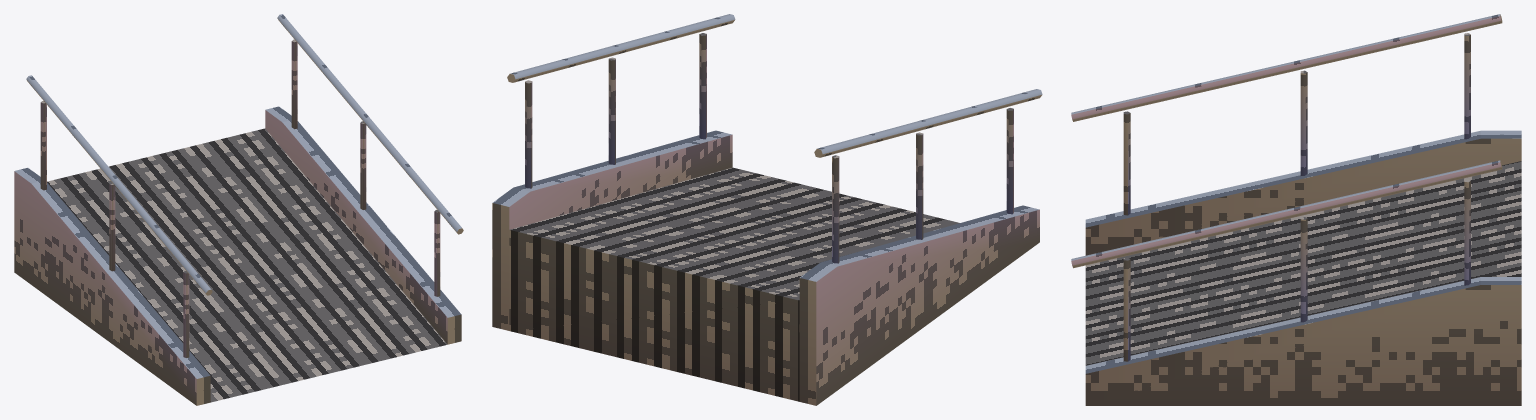
The model's file is stn.stairs__ramp.glb.
The picture shows the model from 3 angles, left to right: view 1: azimuth 30°, elevation 25°; view 2: azimuth 150°, elevation 25°; view 3: azimuth 270°, elevation 25°; orthographic projection. The views are drawn at different scales.
Parts seen in each view (by area): view 1: kit_flight, kit_stringers, kit_rails, kit_posts; view 2: kit_flight, kit_stringers, kit_posts, kit_rails; view 3: kit_stringers, kit_flight, kit_rails, kit_posts.
Part boxes in pixels (x1,y1,x2,y2): kit_flight: [47, 128, 447, 402]; kit_stringers: [14, 106, 461, 405]; kit_rails: [26, 14, 463, 295]; kit_posts: [40, 39, 440, 357]; kit_flight: [509, 167, 959, 401]; kit_stringers: [492, 130, 1039, 405]; kit_posts: [525, 33, 1013, 263]; kit_rails: [507, 14, 1042, 157]; kit_stringers: [1085, 130, 1521, 405]; kit_flight: [1085, 161, 1521, 365]; kit_rails: [1071, 14, 1502, 268]; kit_posts: [1123, 33, 1470, 361].
Bounding box in the file's own units: 2.68 × 1.95 × 3.31.
4 materials, 4 textured.
